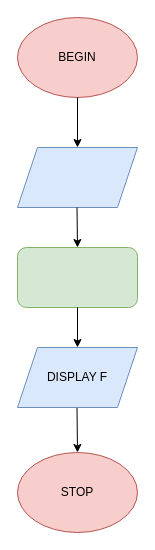
Some shapes in this 155 by 550 pixel diagram are drawn without their labels. Here are the shapes that lost their labels. From the top down, the centre of each, then its label:
At [77,177]: "Input C=0".
At [77,277]: "F = (C/5)*9+32".
